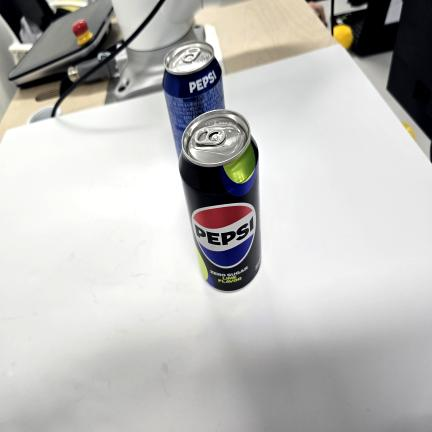can_pepsi: (166, 45, 226, 151)
can_pepsi_zero: (177, 107, 261, 291)
